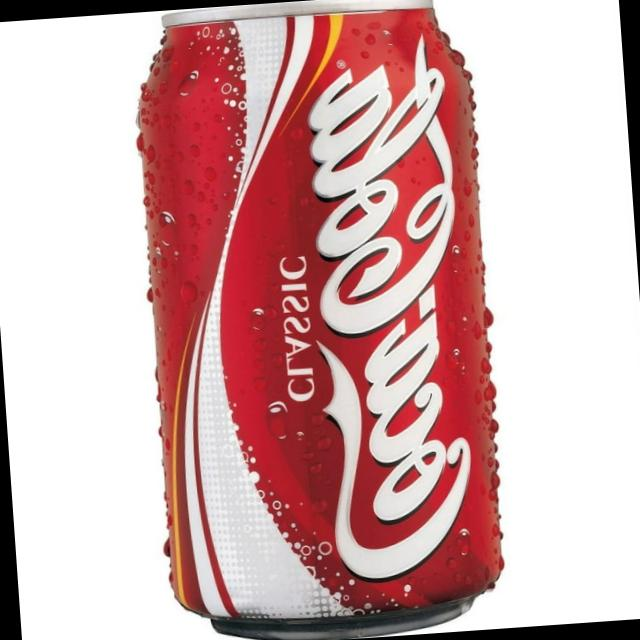cocacola: (134, 0, 526, 639)
